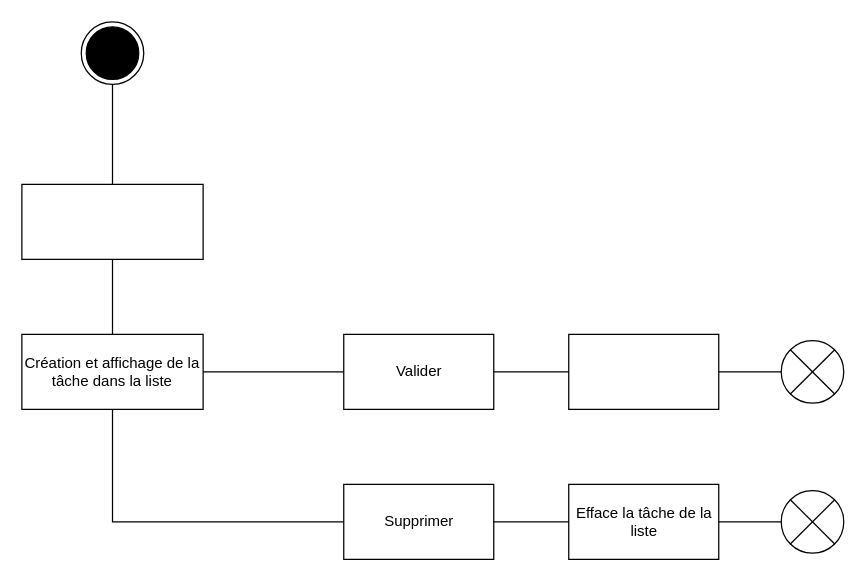
Image size: 866x581. Some labels were removed from this diagram. The centre of each missing label's shape, as x and y in pixels:
Saisie d'un tâche à faire: (112,221)
Surligne la tâche en vert: (643,371)
